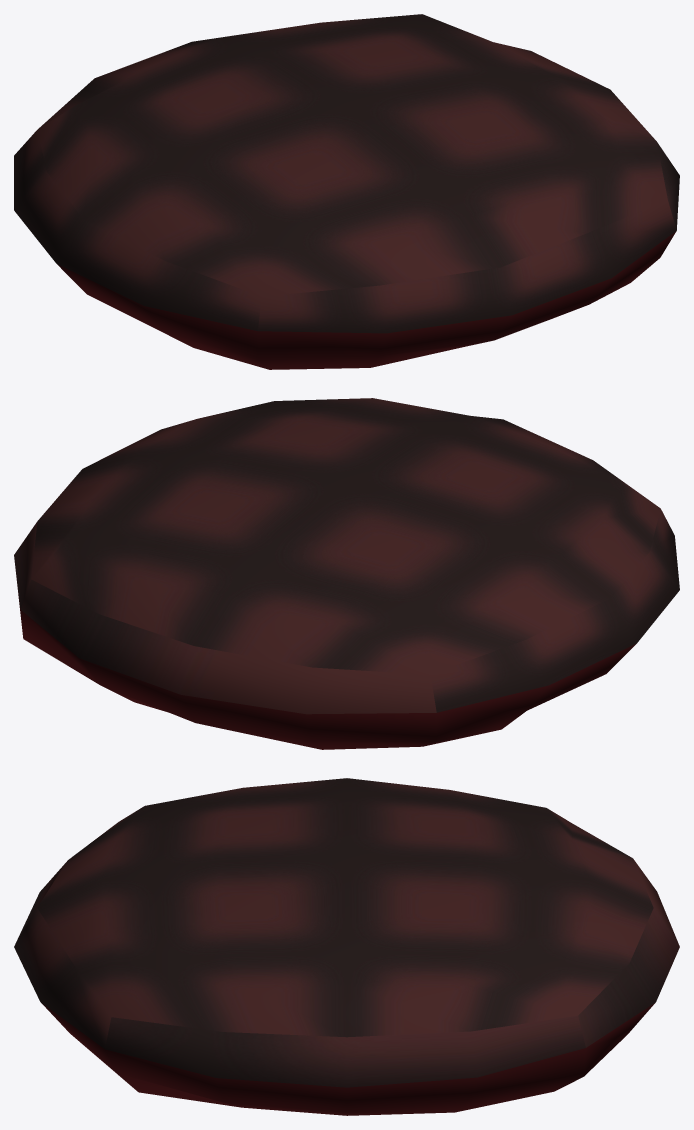
File: Supermarket_Run_Meatball.fbx
3 renders of one model, top to bottom at view 1: azimuth 30°, elevation 25°; view 2: azimuth 150°, elevation 25°; view 3: azimuth 270°, elevation 25°, orthographic.
Parts seen in each view (by area): view 1: Meatball; view 2: Meatball; view 3: Meatball.
Boxes of the visible parts, x1,y1,x2,y2 form: Meatball: (14,14,679,369); Meatball: (14,398,679,749); Meatball: (14,778,679,1115).
Size of the model in its own units: 330 by 100 by 330.
